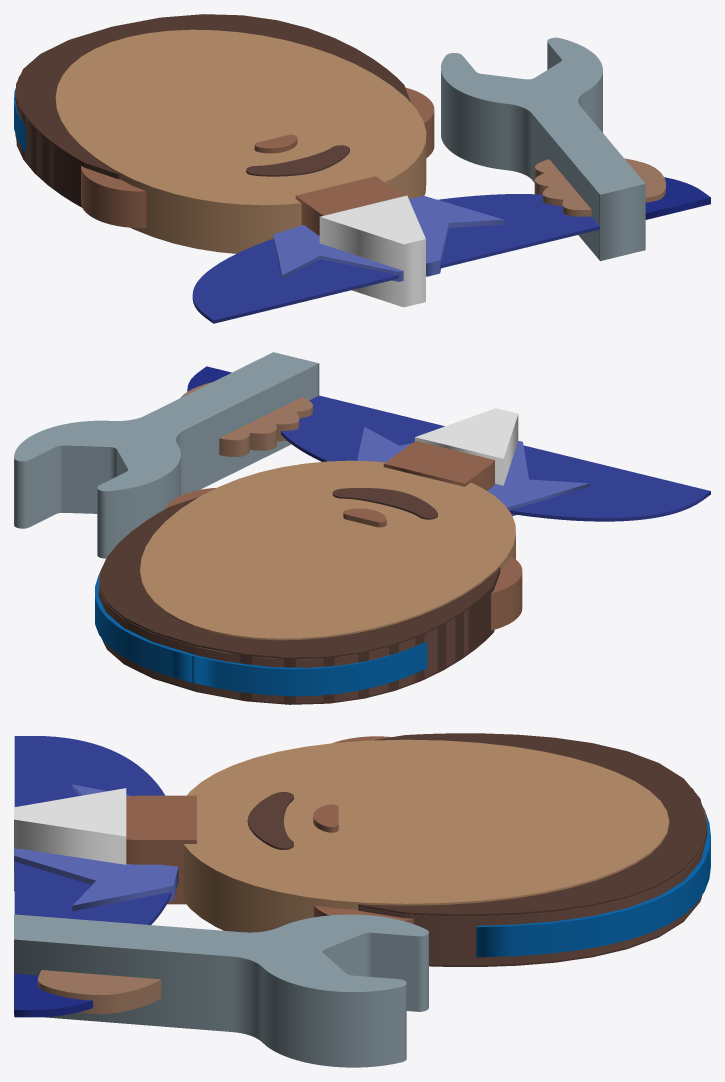
File: emoji_u1f468_1f3fd_200d_1f527.glb
3 renders of one model, top to bottom at view 1: azimuth 30°, elevation 25°; view 2: azimuth 150°, elevation 25°; view 3: azimuth 270°, elevation 25°, orthographic. The views are drawn at different scales.
Visible parts, largest first — view 1: emoji_u1f468_1f3fd_200d_1f527; view 2: emoji_u1f468_1f3fd_200d_1f527; view 3: emoji_u1f468_1f3fd_200d_1f527.
Part boxes in pixels (left/top/right/bottom): emoji_u1f468_1f3fd_200d_1f527: left=14, top=14, right=710, bottom=323; emoji_u1f468_1f3fd_200d_1f527: left=14, top=352, right=710, bottom=704; emoji_u1f468_1f3fd_200d_1f527: left=14, top=733, right=710, bottom=1067.
Bounding box in the file's own units: 0.0332 × 0.004 × 0.0335.
